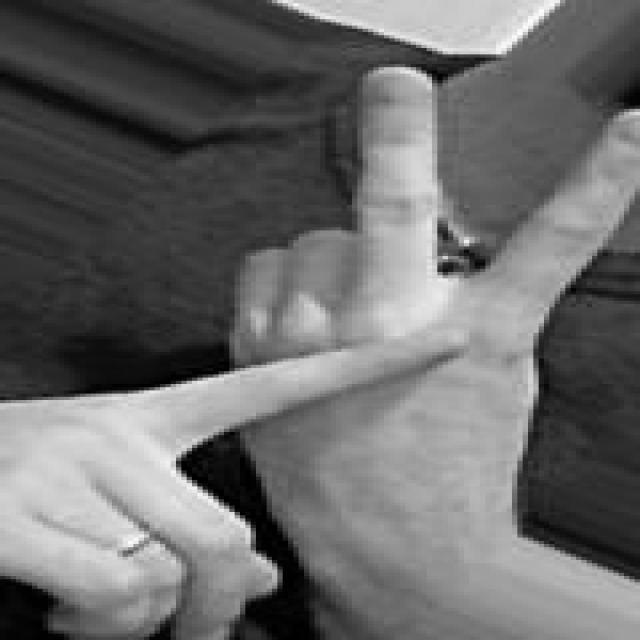Y: (5, 64, 640, 640)
